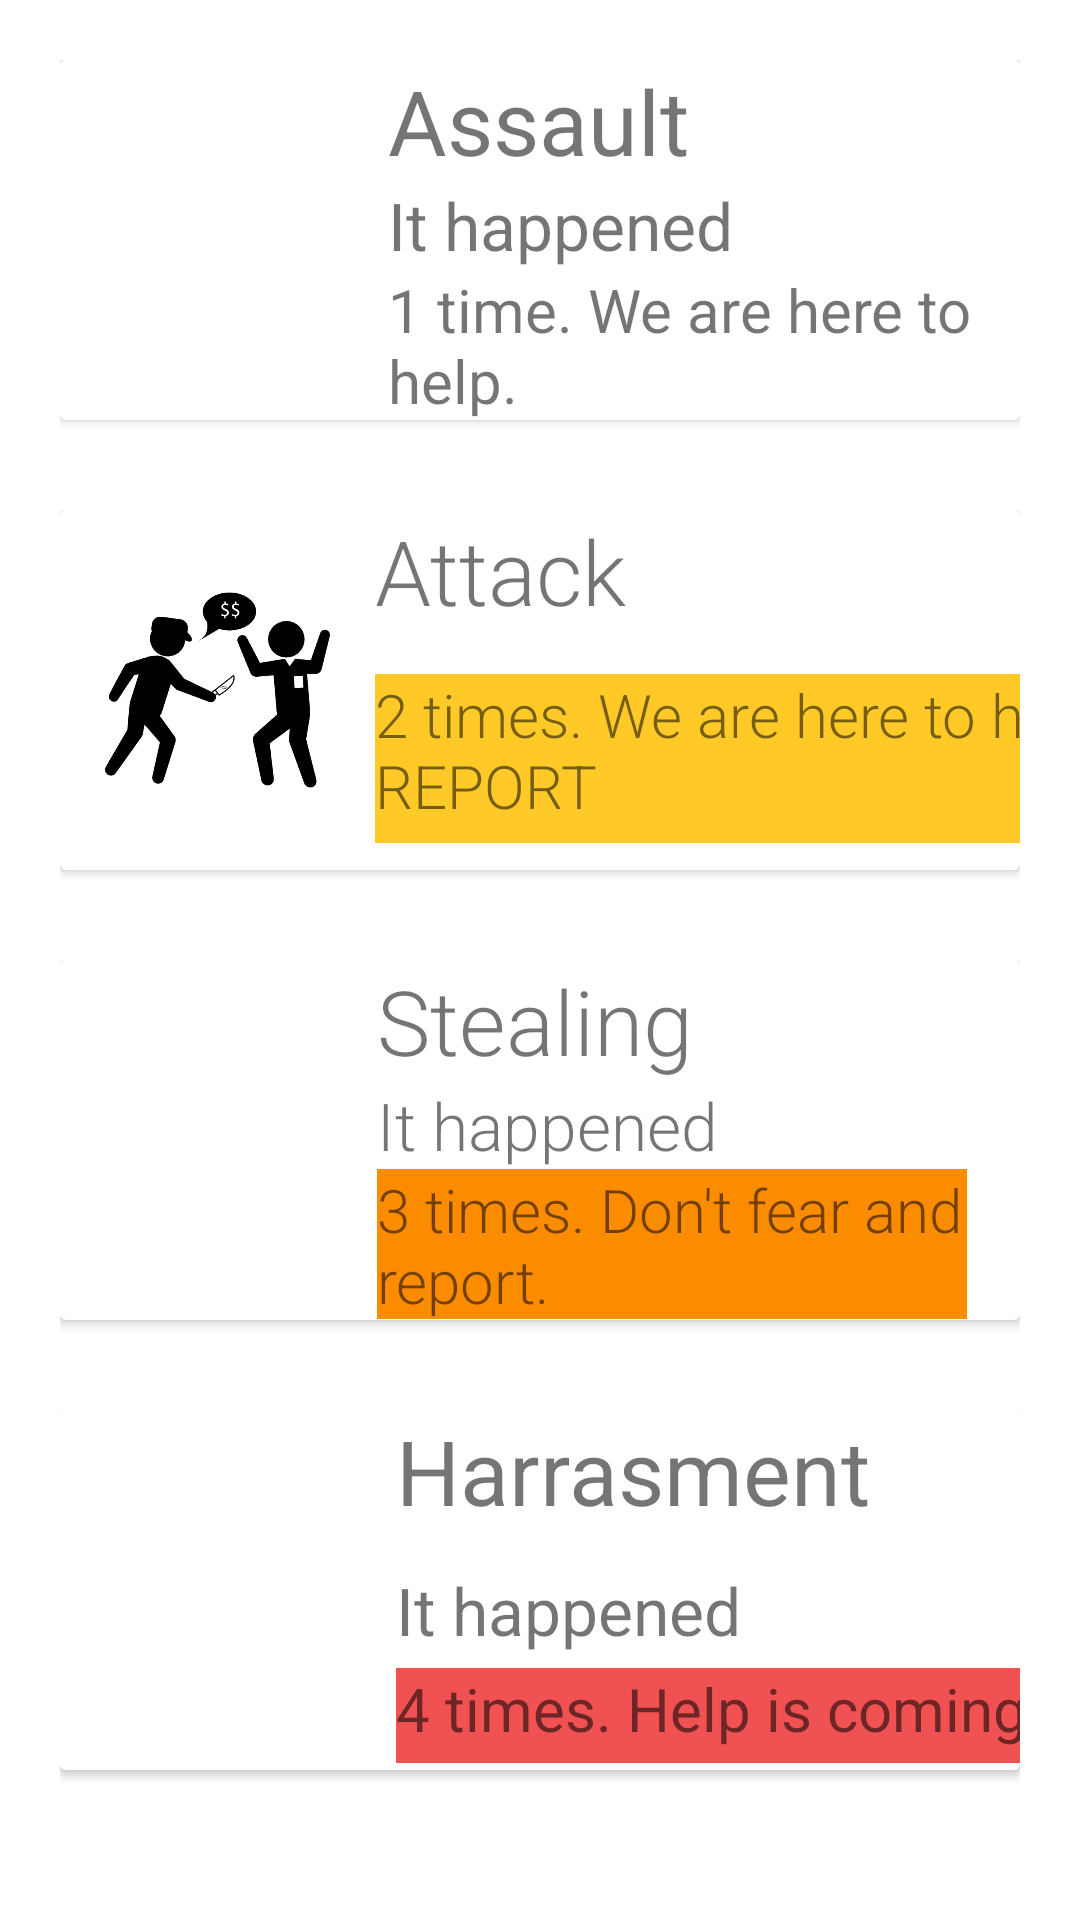

Named icons in this screenshot (1080px x 1920px) and their centers, (x,y):
criminal with knife: (217,690)
